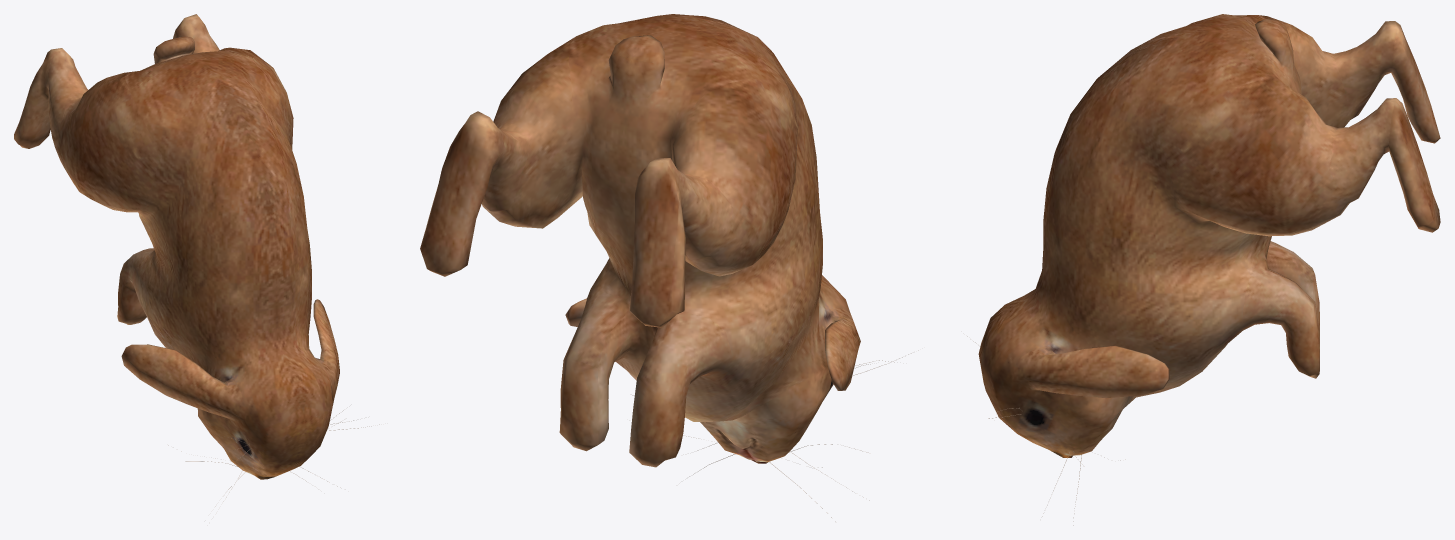
File: rabbit.glb
3 views of the same model, side by side, from view 1: azimuth 30°, elevation 25°; view 2: azimuth 150°, elevation 25°; view 3: azimuth 270°, elevation 25° (orthographic). The views are drawn at different scales.
Visible parts, largest first — view 1: Rabbit; view 2: Rabbit; view 3: Rabbit.
Boxes of the visible parts, bbox=[...] form: Rabbit: bbox=[14, 14, 379, 506]; Rabbit: bbox=[420, 14, 918, 521]; Rabbit: bbox=[967, 14, 1440, 525].
Size of the model in its own units: 0.6113 by 1.17 by 1.09.
Materials: 1 (1 with a texture image).
